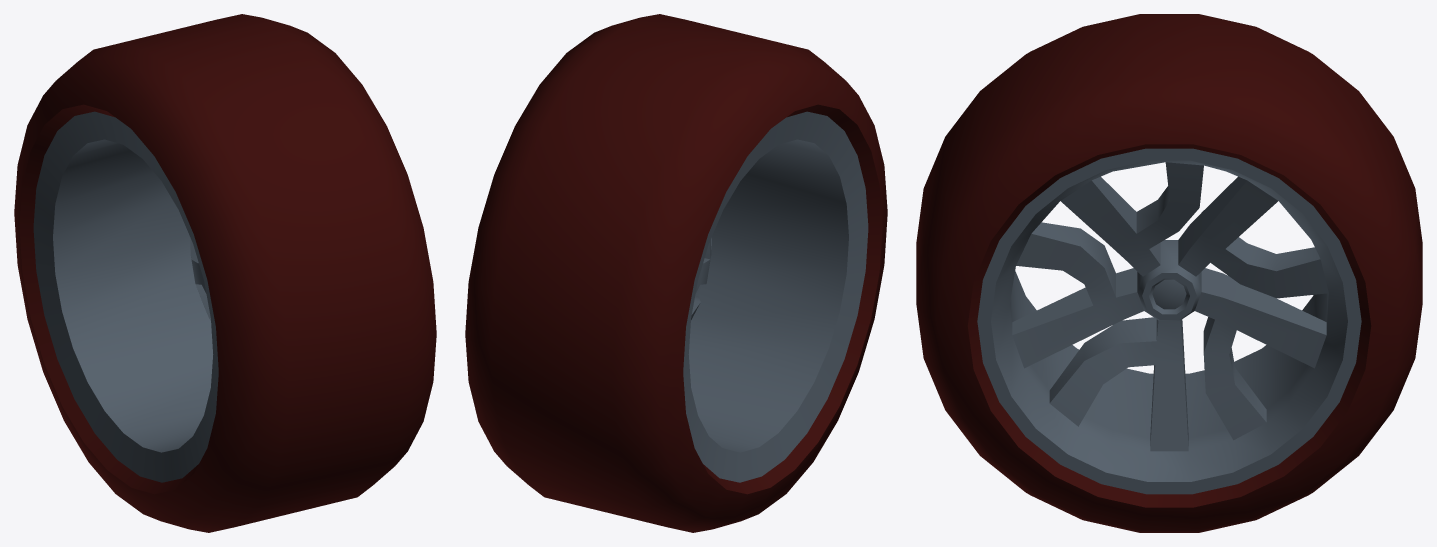
The picture shows the model from 3 angles, left to right: view 1: azimuth 30°, elevation 25°; view 2: azimuth 150°, elevation 25°; view 3: azimuth 270°, elevation 25°; orthographic projection.
Parts seen in each view (by area): view 1: W4A; view 2: W4A; view 3: W4A.
Boxes of the visible parts, <box> form: W4A: <box>14,14,436,532</box>; W4A: <box>465,14,887,532</box>; W4A: <box>916,14,1422,532</box>.
Bounding box in the file's own units: 14.02 × 28.35 × 28.56.
